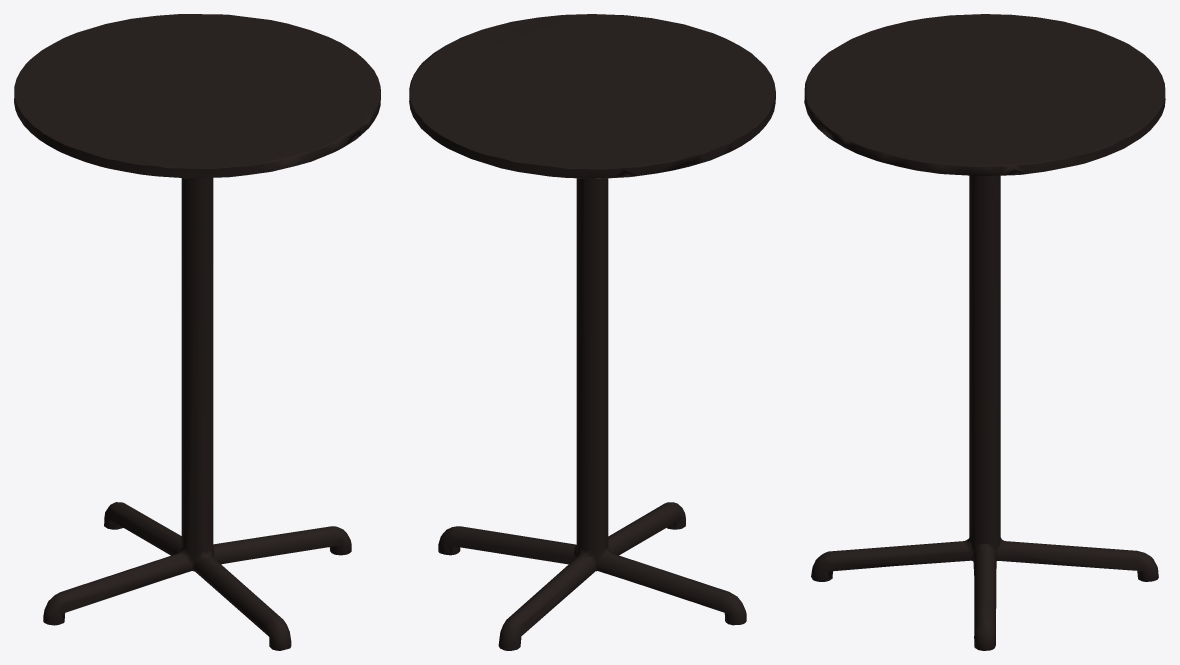
The model's file is stensele_sto_barowy_09288224.glb.
3 renders of one model, left to right at view 1: azimuth 30°, elevation 25°; view 2: azimuth 150°, elevation 25°; view 3: azimuth 270°, elevation 25°, orthographic.
Parts seen in each view (by area): view 1: stensele_sto_barowy_09288224; view 2: stensele_sto_barowy_09288224; view 3: stensele_sto_barowy_09288224.
Boxes of the visible parts, x1,y1,x2,y2 form: stensele_sto_barowy_09288224: [14, 14, 380, 650]; stensele_sto_barowy_09288224: [409, 14, 775, 650]; stensele_sto_barowy_09288224: [804, 14, 1165, 650].
Bounding box in the file's own units: 0.7 × 1.05 × 0.6994.
1 material, 1 textured.
